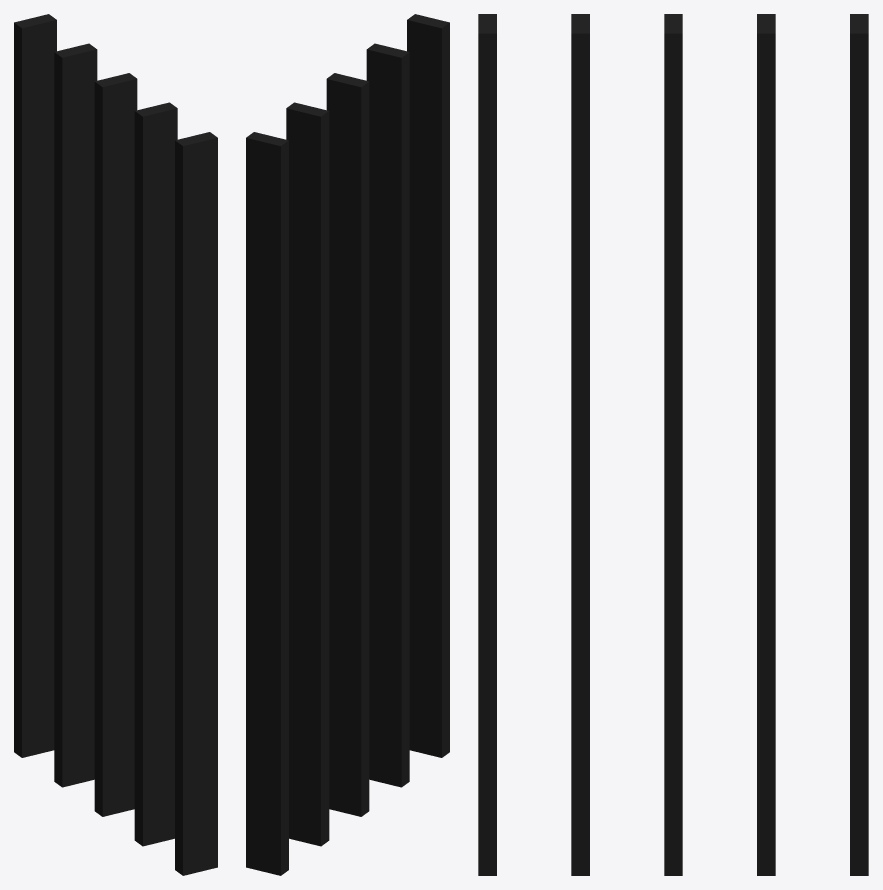
Rendered from SM_Build_Pallisade_3_Dunkel.fbx.
The picture shows the model from 3 angles, left to right: view 1: azimuth 30°, elevation 25°; view 2: azimuth 150°, elevation 25°; view 3: azimuth 270°, elevation 25°; orthographic projection. The views are drawn at different scales.
Parts seen in each view (by area): view 1: Pallisade 3_Dunkel; view 2: Pallisade 3_Dunkel; view 3: Pallisade 3_Dunkel.
Part boxes in pixels (x1,y1,x2,y2): Pallisade 3_Dunkel: (14,14,217,875); Pallisade 3_Dunkel: (246,14,449,875); Pallisade 3_Dunkel: (478,14,868,875).
Size of the model in its own units: 0.2 by 4 by 1.68.
